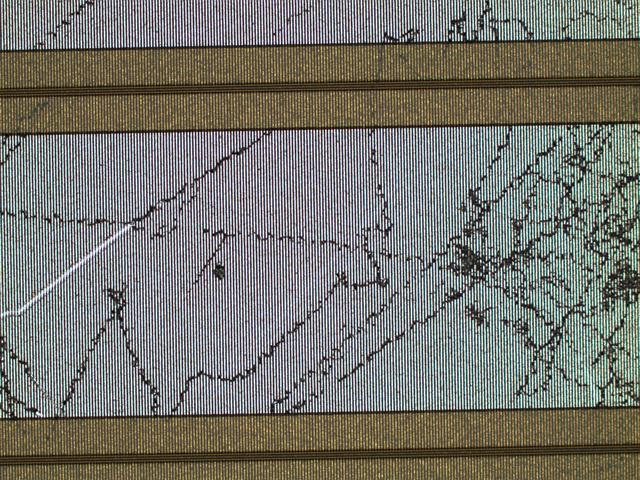SCRATCH: (1, 1, 640, 434)
